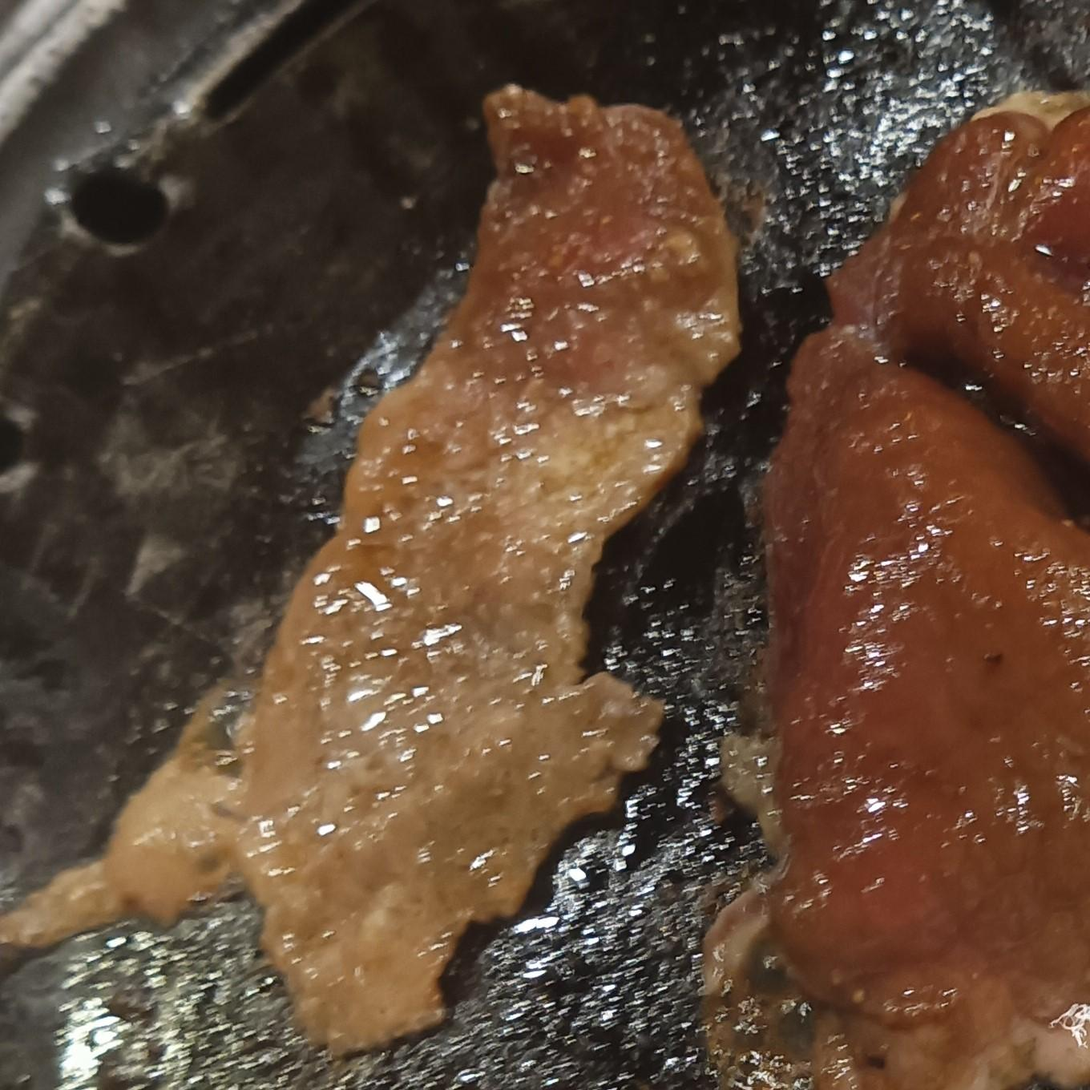Undercooked: (763, 93, 1089, 1056)
Well-Cooked: (79, 87, 745, 1061)
